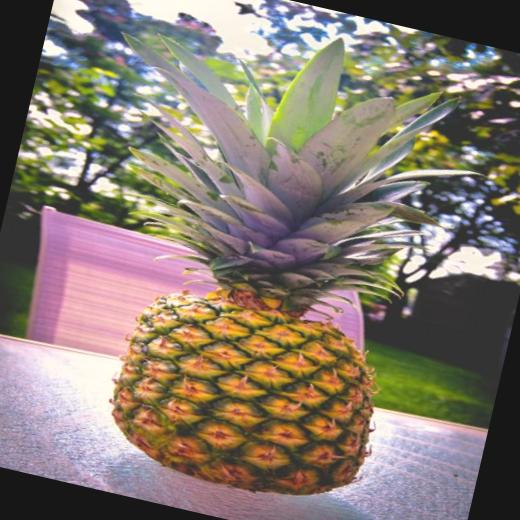Mango: (24, 0, 511, 520)
